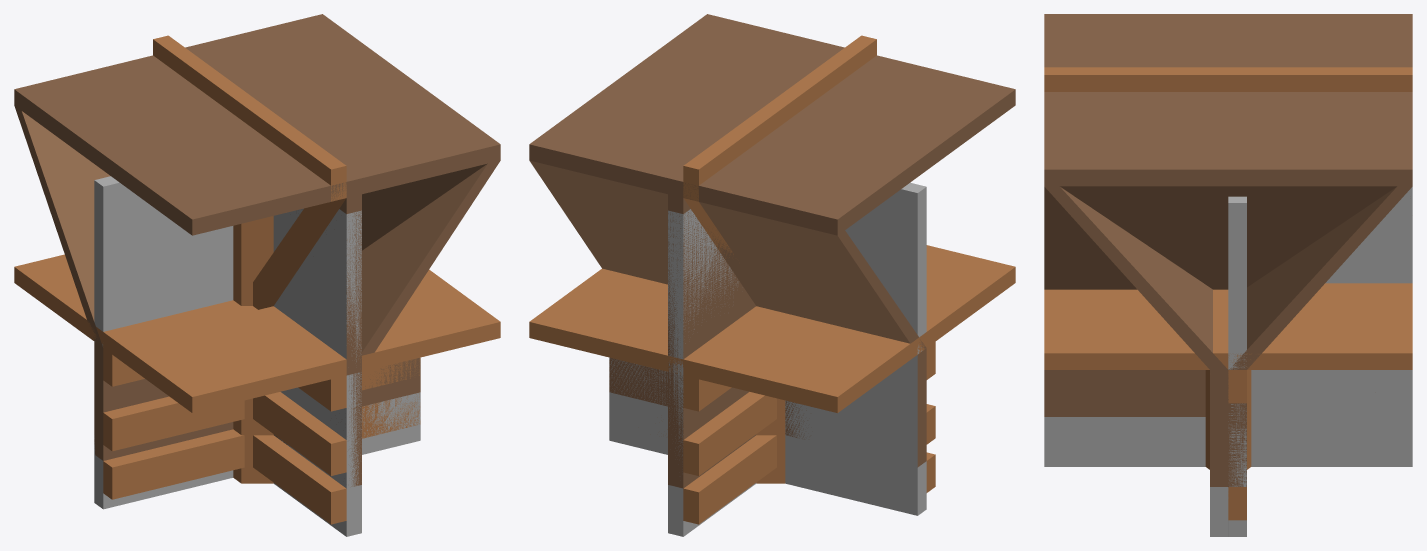
The model's file is Buildings.fbx.
3 renders of one model, left to right at view 1: azimuth 30°, elevation 25°; view 2: azimuth 150°, elevation 25°; view 3: azimuth 270°, elevation 25°, orthographic. The views are drawn at different scales.
Visible parts, largest first — view 1: Roof, SideWallTop, InCornerTop, Floor, InCornerBot, CornerTop_Mirrored, WallInCorner, SideWall, Wall, Floor_Pillar, CornerTop, WallCorner; view 2: Roof, SideWallTop, InCornerTop, CornerTop, WallInCorner, InCornerBot, Floor, SideWall, CornerBot, Wall, WallCorner, Floor_Pillar; view 3: SideWallTop, Roof, CornerTop_Mirrored, InCornerTop, Wall, SideWall, WallCorner, CornerTop, InCornerBot, CornerBot, Floor, Floor_Pillar.
Boxes of the visible parts, x1,y1,x2,y2 form: Roof: (14,14,500,483); SideWallTop: (153,14,500,524); InCornerTop: (14,90,500,522); Floor: (17,219,500,412); InCornerBot: (14,176,479,361); CornerTop_Mirrored: (253,163,487,524); WallInCorner: (94,179,361,536); SideWall: (273,209,500,370); Wall: (265,208,346,526); Floor_Pillar: (233,216,273,483); CornerTop: (153,41,420,438); WallCorner: (362,357,420,390); Roof: (531,15,1015,483); SideWallTop: (530,14,876,535); InCornerTop: (529,144,935,515); CornerTop: (530,151,776,536); WallInCorner: (785,184,935,515); InCornerBot: (529,182,926,412); Floor: (530,245,1015,400); SideWall: (529,209,716,374); CornerBot: (549,209,738,375); Wall: (668,212,776,535); WallCorner: (609,216,764,534); Floor_Pillar: (756,398,785,483); SideWallTop: (1044,67,1412,466); Roof: (1044,14,1412,469); CornerTop_Mirrored: (1044,75,1246,536); InCornerTop: (1044,169,1396,289); Wall: (1251,187,1412,466); SideWall: (1044,197,1412,369); WallCorner: (1228,187,1412,536); CornerTop: (1228,75,1412,536); InCornerBot: (1044,283,1412,369); CornerBot: (1228,187,1412,369); Floor: (1044,287,1412,353); Floor_Pillar: (1205,370,1251,468).
Bounding box in the file's own units: 200 × 230 × 200.
